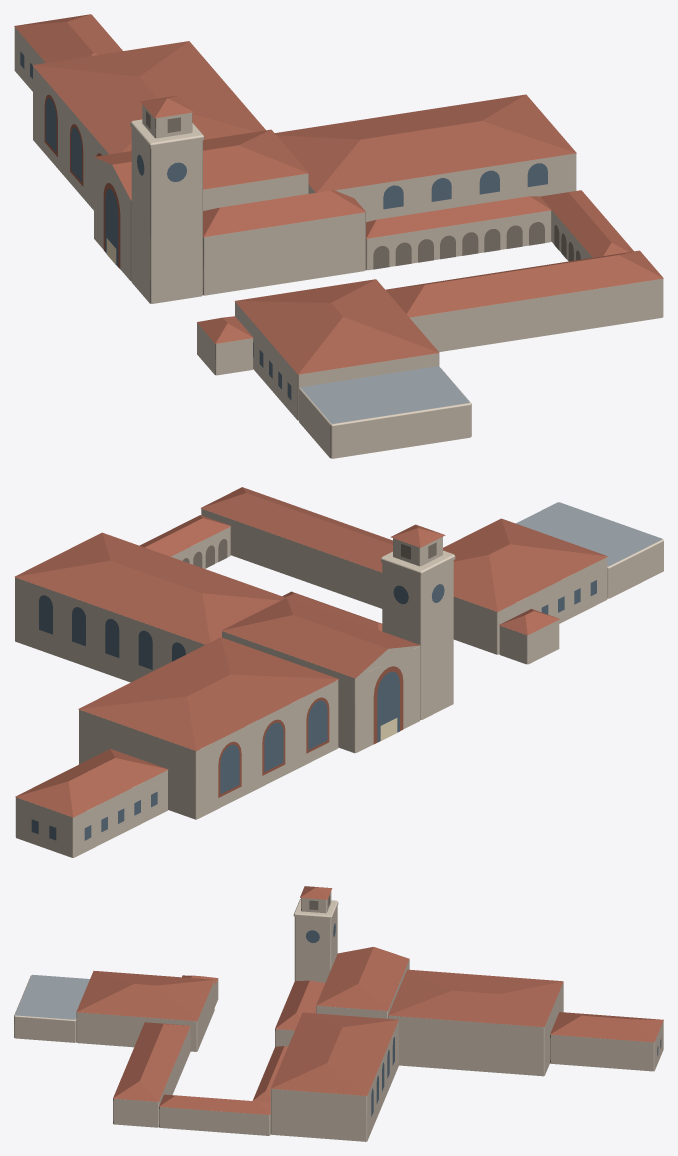
3 views of the same model, one above another, from view 1: azimuth 30°, elevation 25°; view 2: azimuth 150°, elevation 25°; view 3: azimuth 270°, elevation 25° (orthographic). The views are drawn at different scales.
Parts seen in each view (by area): view 1: los-angeles-union-station; view 2: los-angeles-union-station; view 3: los-angeles-union-station.
Part boxes in pixels (x1,y1,x2,y2): los-angeles-union-station: (14,14,663,458); los-angeles-union-station: (14,487,663,857); los-angeles-union-station: (14,886,663,1141).
Bounding box in the file's own units: 96.56 × 39.1 × 182.
